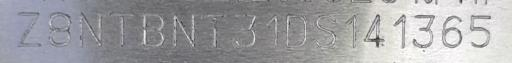letter: (15, 9, 43, 48), (76, 9, 104, 48), (108, 10, 136, 49), (46, 10, 74, 47), (170, 11, 198, 48), (232, 11, 258, 50), (140, 11, 166, 48), (200, 11, 226, 48), (411, 12, 437, 49), (438, 12, 464, 49), (282, 12, 308, 47), (312, 12, 338, 47), (467, 13, 493, 48), (362, 11, 386, 48), (341, 13, 359, 48), (264, 12, 280, 49), (392, 13, 408, 50)
